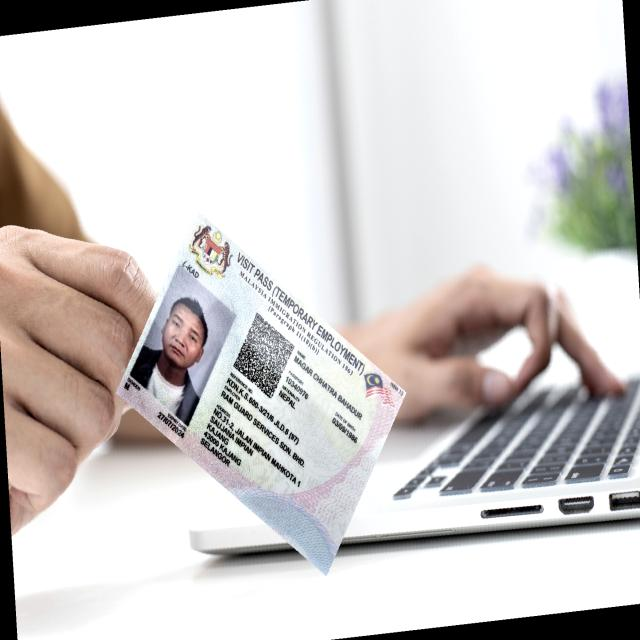ikad-temp: (115, 210, 407, 576)
